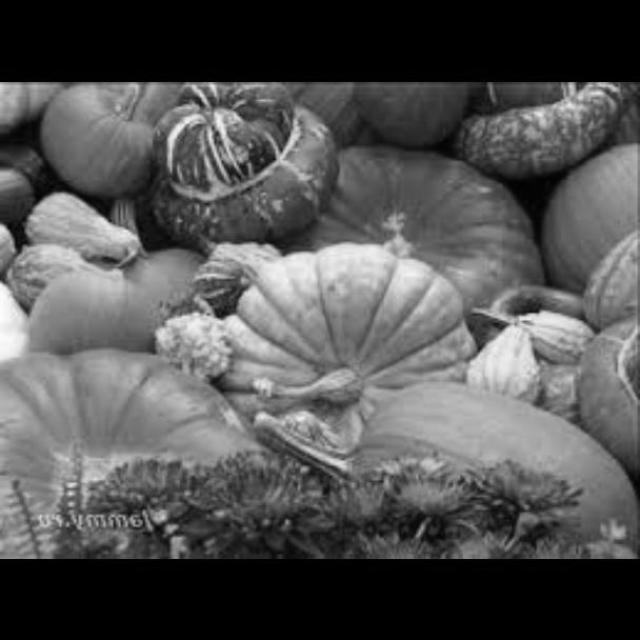bi ngo: (1, 342, 290, 558), (216, 244, 475, 462), (345, 384, 640, 558), (304, 147, 542, 331), (132, 81, 342, 254), (3, 216, 233, 361), (142, 80, 326, 244), (440, 81, 640, 182), (541, 134, 640, 295), (499, 232, 640, 341), (10, 182, 146, 285), (450, 306, 566, 426), (24, 81, 161, 180), (564, 318, 640, 464), (346, 81, 473, 151)
